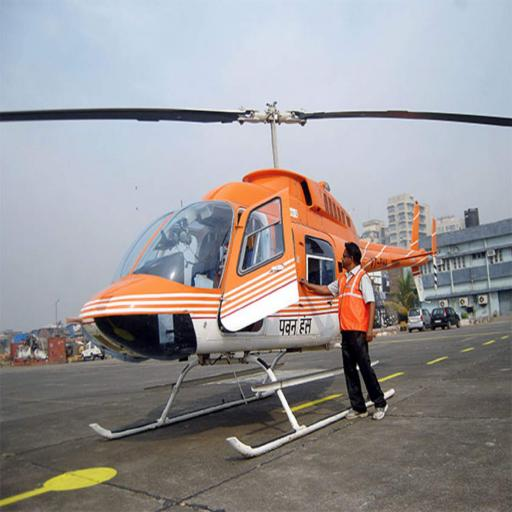helicopter: (27, 85, 474, 478)
